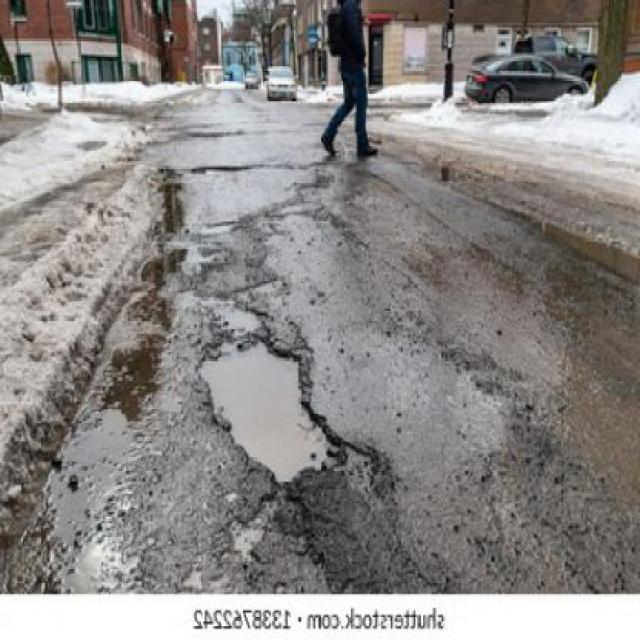Pothole: (191, 302, 348, 488)
